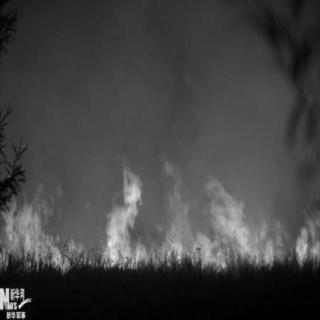Fire: (4, 140, 318, 272)
